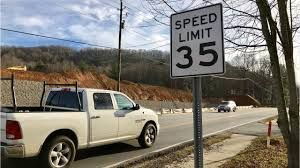speedLimit35: (165, 5, 227, 77)
